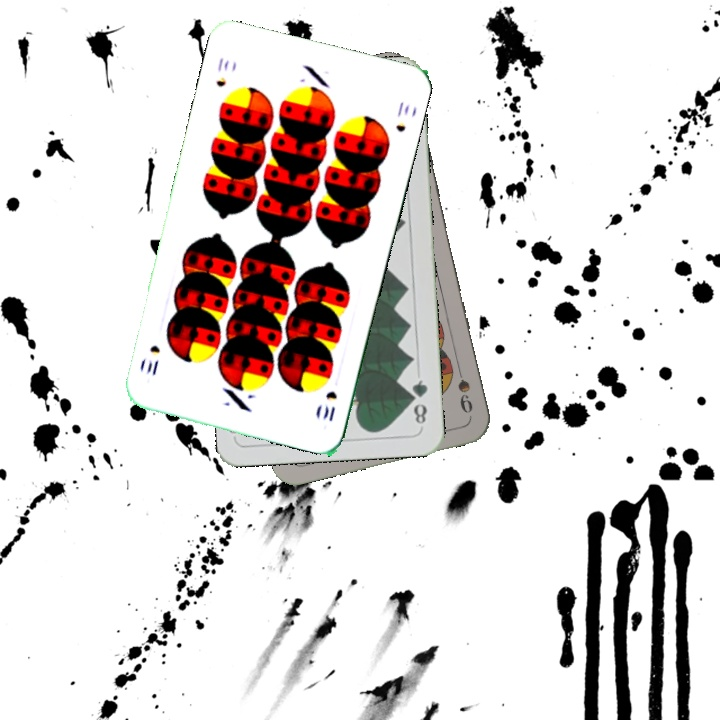G8: (407, 376, 431, 427)
S10: (319, 386, 340, 424), (212, 53, 232, 90)
S9: (452, 358, 476, 416)
